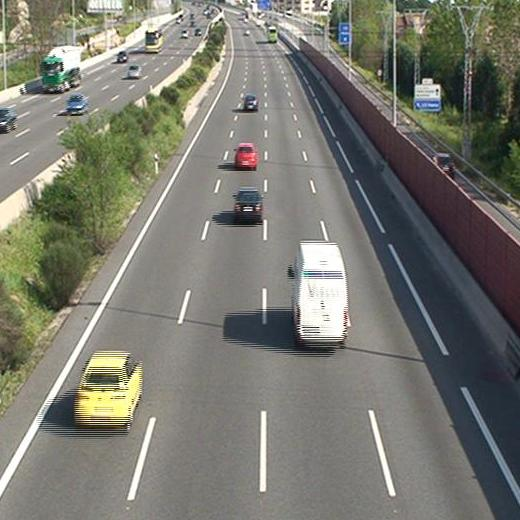bus: (267, 25, 278, 43)
car: (75, 350, 142, 424), (233, 189, 262, 219), (234, 144, 258, 167), (243, 95, 258, 111)
van: (292, 241, 346, 346)
